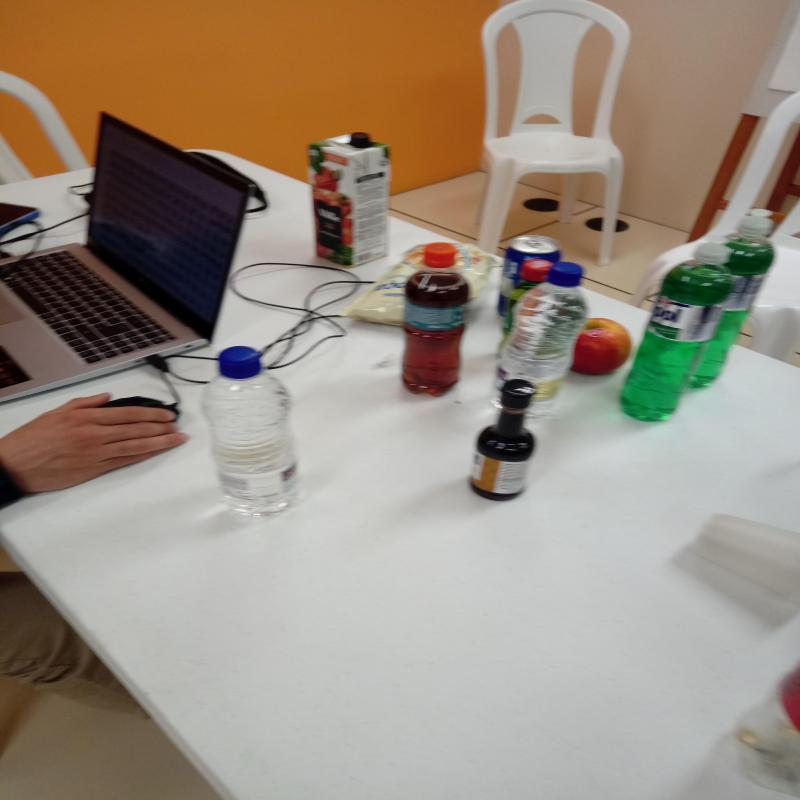Apple: (568, 315, 632, 376)
Cleaner: (616, 241, 734, 427), (689, 213, 783, 387)
CornFlakes: (346, 242, 501, 330)
EnglishSauce: (470, 378, 539, 504)
Guarana: (505, 263, 548, 334)
IceTea: (401, 244, 470, 398)
Tonic: (497, 237, 564, 314)
Water: (203, 343, 302, 516), (496, 261, 590, 400)
